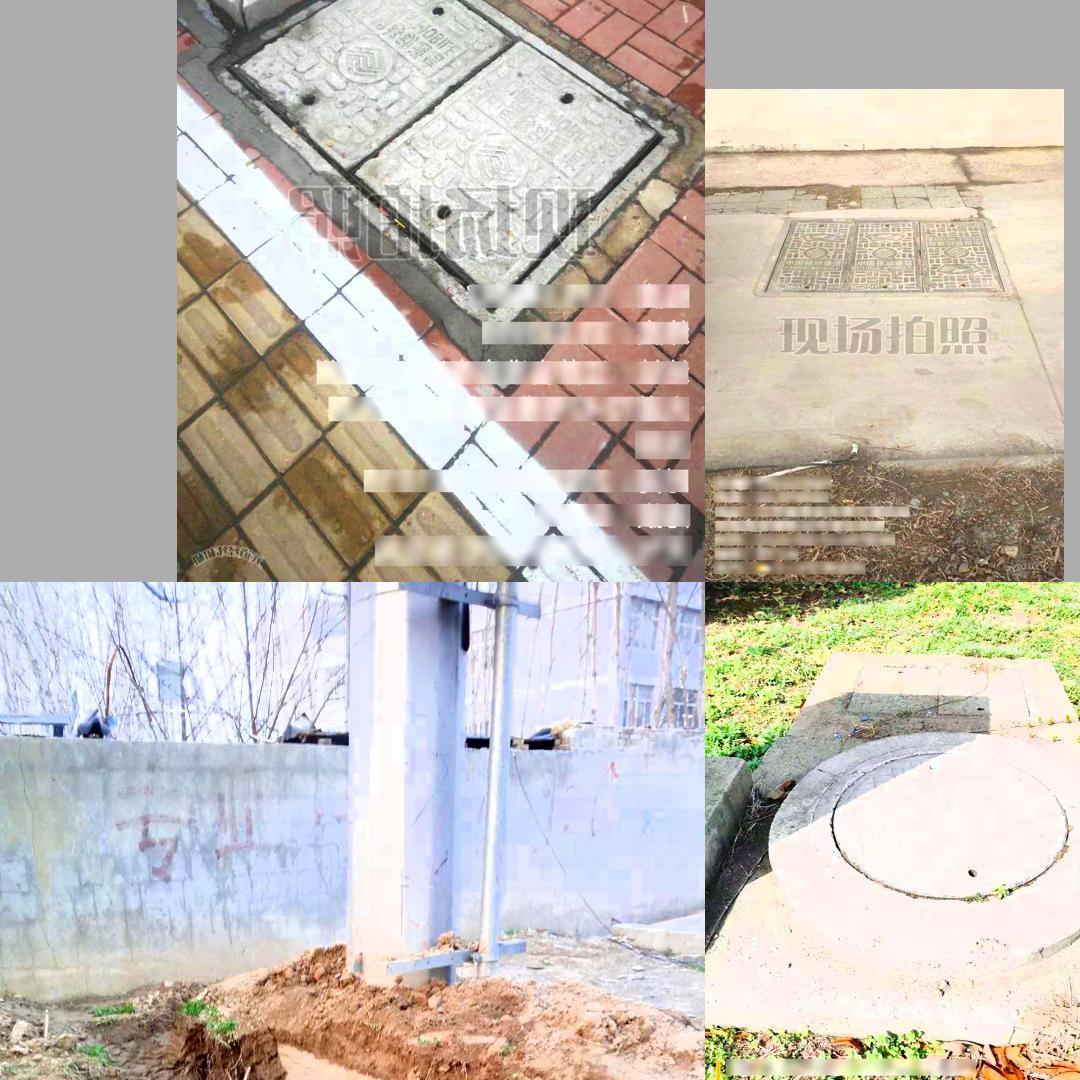good: (265, 0, 682, 282), (813, 744, 1080, 912), (751, 217, 1013, 297), (844, 663, 1040, 720)
